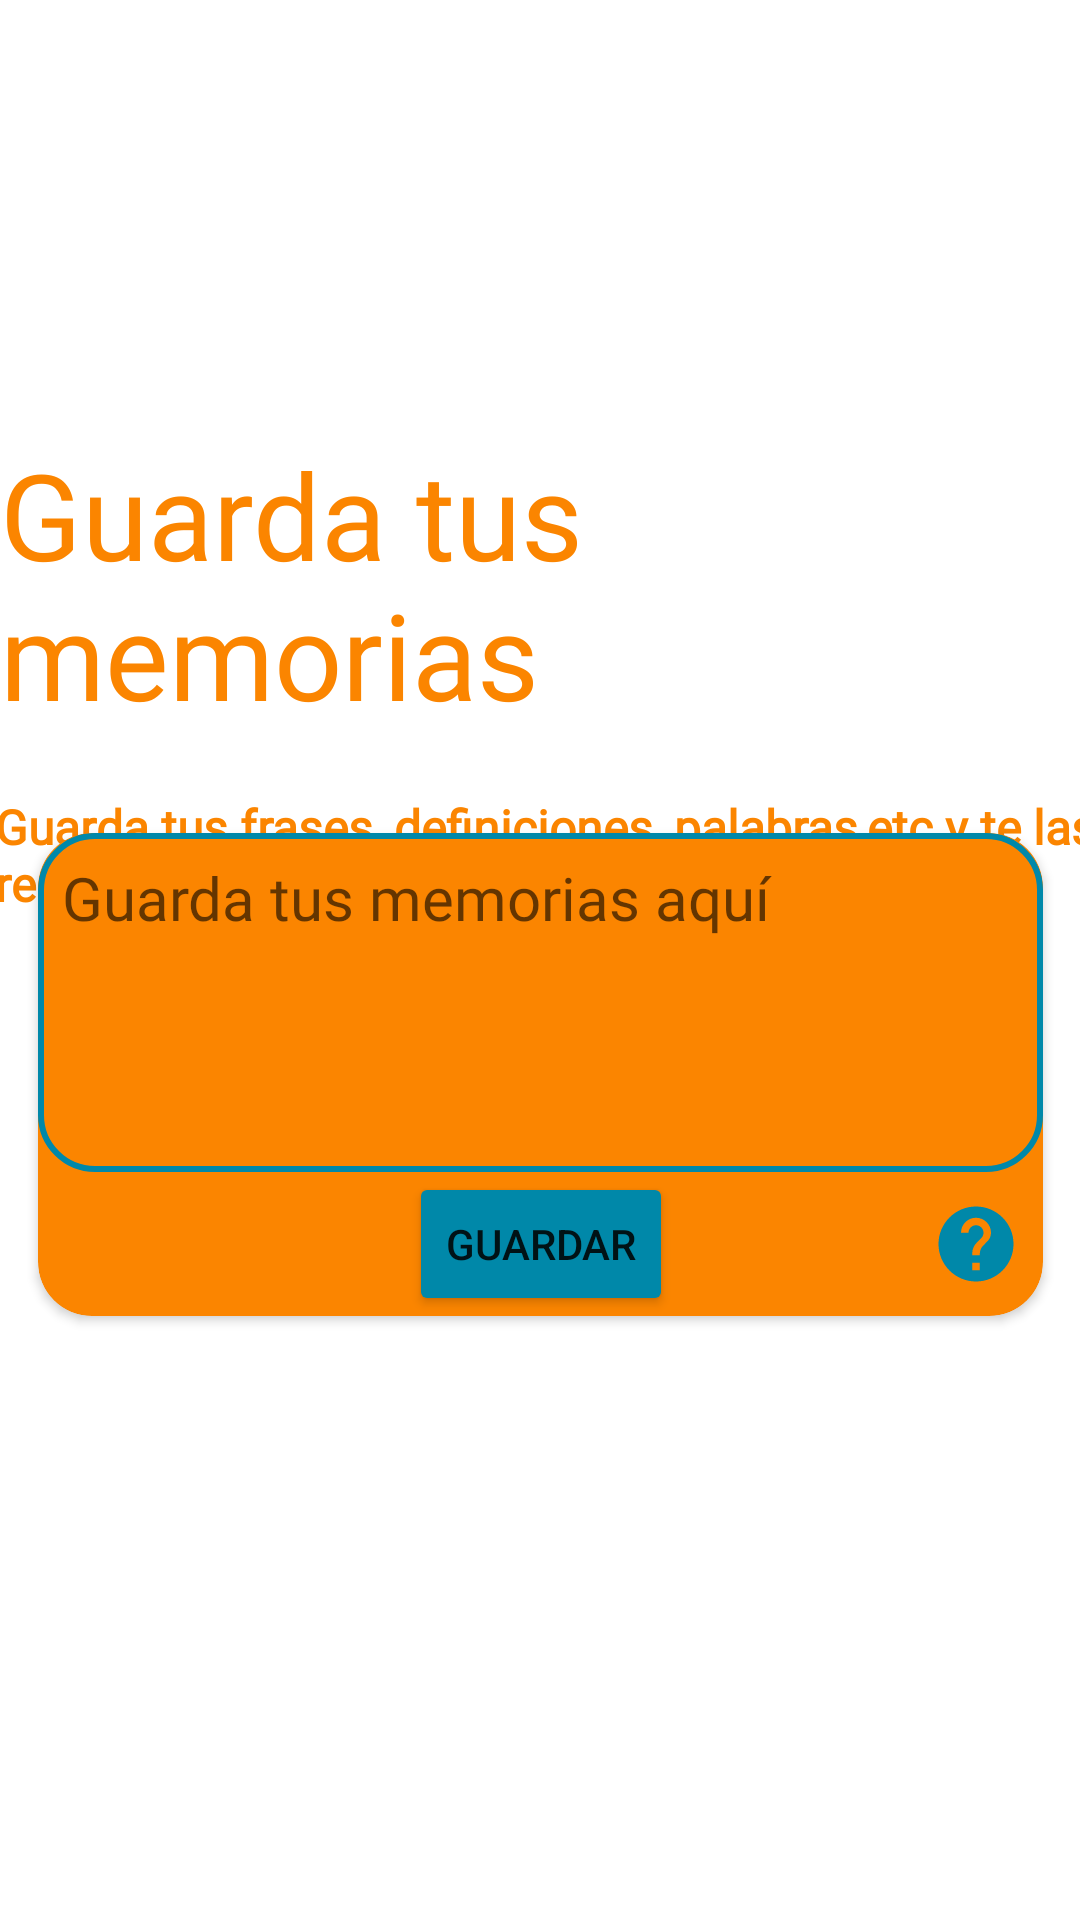

Icons on this 1080x1920 Android screen, each with its box as BBox(x1, y1, x2, y2):
help: BBox(938, 1206, 1014, 1282)
